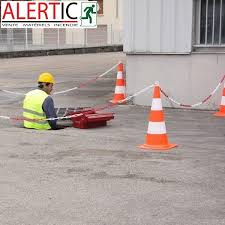obstacle: (143, 79, 177, 157), (113, 60, 128, 105), (213, 75, 225, 118)
person: (25, 71, 57, 129)
